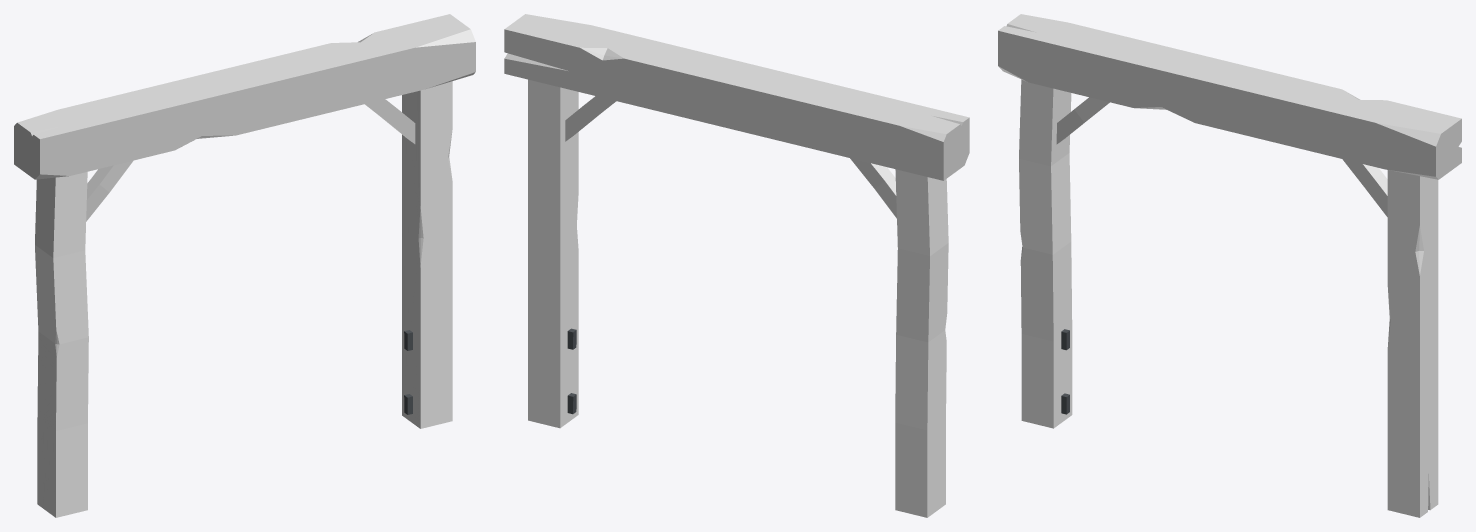
File: Mesh_Props_Arch_06.FBX
The picture shows the model from 3 angles, left to right: view 1: azimuth 30°, elevation 25°; view 2: azimuth 150°, elevation 25°; view 3: azimuth 330°, elevation 25°; orthographic projection.
Visible parts, largest first — view 1: Mesh_Props_Arch_06; view 2: Mesh_Props_Arch_06; view 3: Mesh_Props_Arch_06.
Part boxes in pixels (<box>): Mesh_Props_Arch_06: <box>14,14,475,517</box>; Mesh_Props_Arch_06: <box>504,14,969,517</box>; Mesh_Props_Arch_06: <box>998,14,1461,517</box>.
Size of the model in its own units: 184 by 155 by 18.85.
